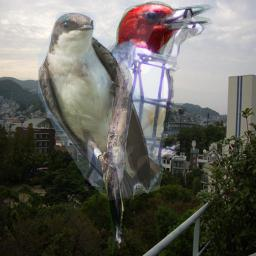Swallow: (38, 12, 164, 201)
Woodpecker: (83, 1, 214, 255)
